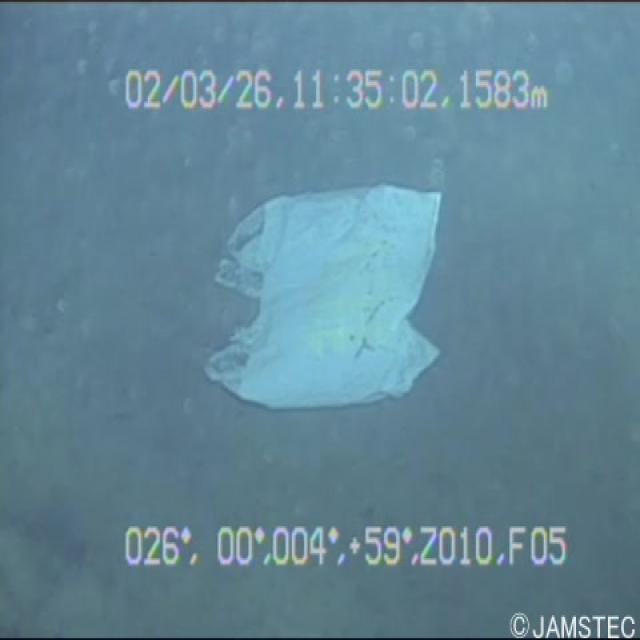plastic: (185, 156, 464, 414)
